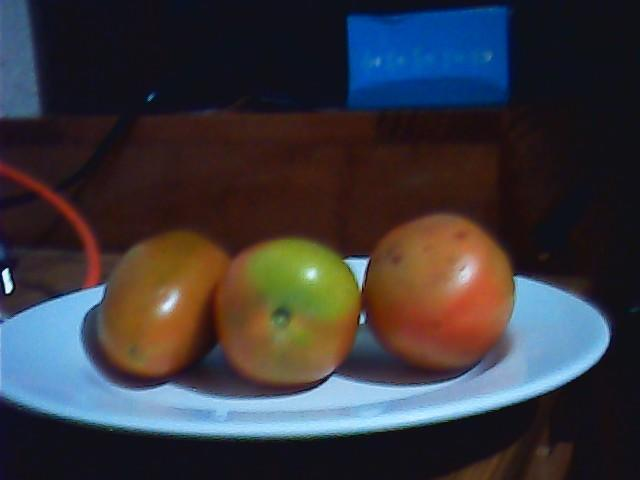verde: (362, 216, 514, 378), (213, 240, 361, 388), (91, 234, 235, 380)
